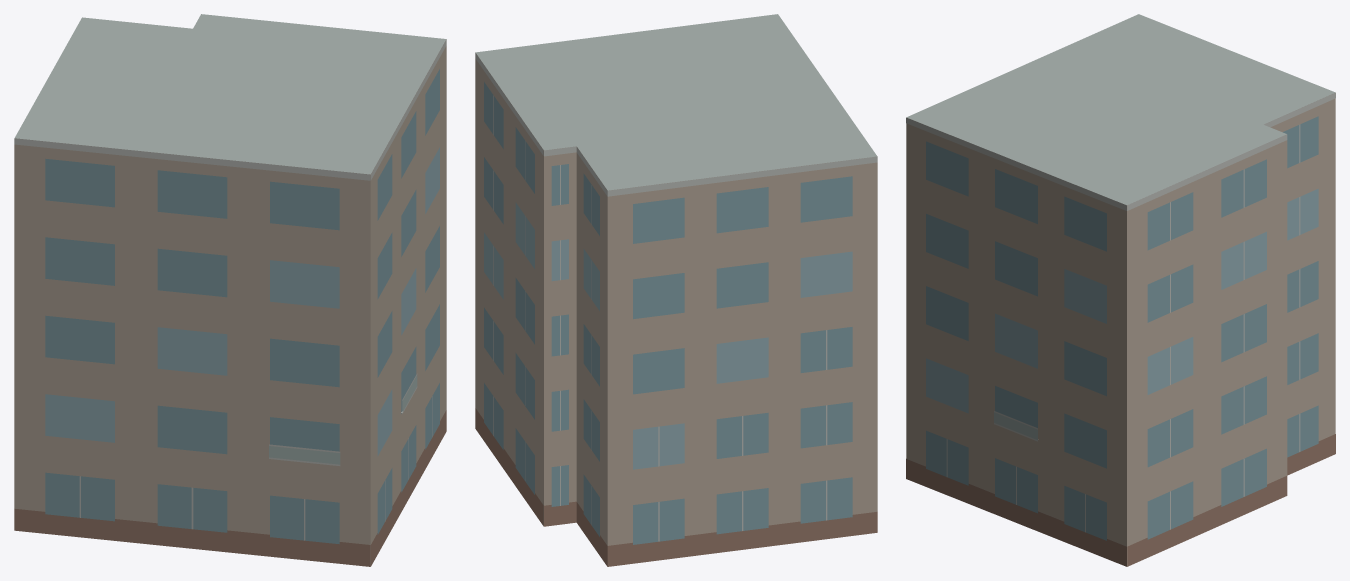
The model's file is survey-upis-32674482.glb.
3 renders of one model, left to right at view 1: azimuth 30°, elevation 25°; view 2: azimuth 150°, elevation 25°; view 3: azimuth 270°, elevation 25°, orthographic. The views are drawn at different scales.
Parts seen in each view (by area): view 1: survey-upis-32674482.tmp; view 2: survey-upis-32674482.tmp; view 3: survey-upis-32674482.tmp.
Boxes of the visible parts, <box> form: survey-upis-32674482.tmp: <box>14,14,446,566</box>; survey-upis-32674482.tmp: <box>475,14,877,566</box>; survey-upis-32674482.tmp: <box>906,14,1335,566</box>.
Bounding box in the file's own units: 17.27 × 15.2 × 16.38.
